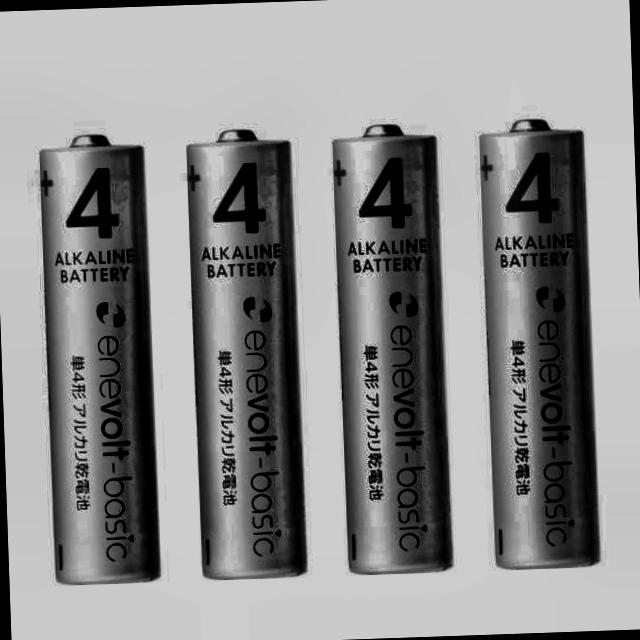drycell: (34, 129, 165, 592), (182, 125, 312, 584)
